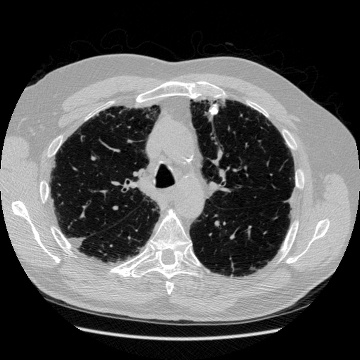PN: (208, 104, 220, 116)
